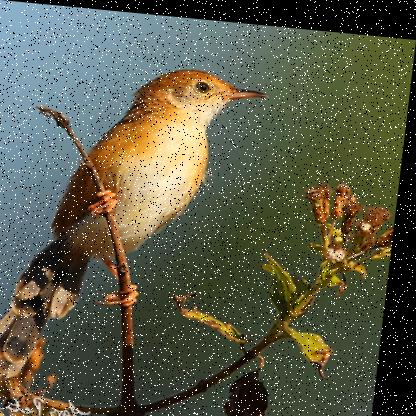Burung: (0, 52, 272, 395)
